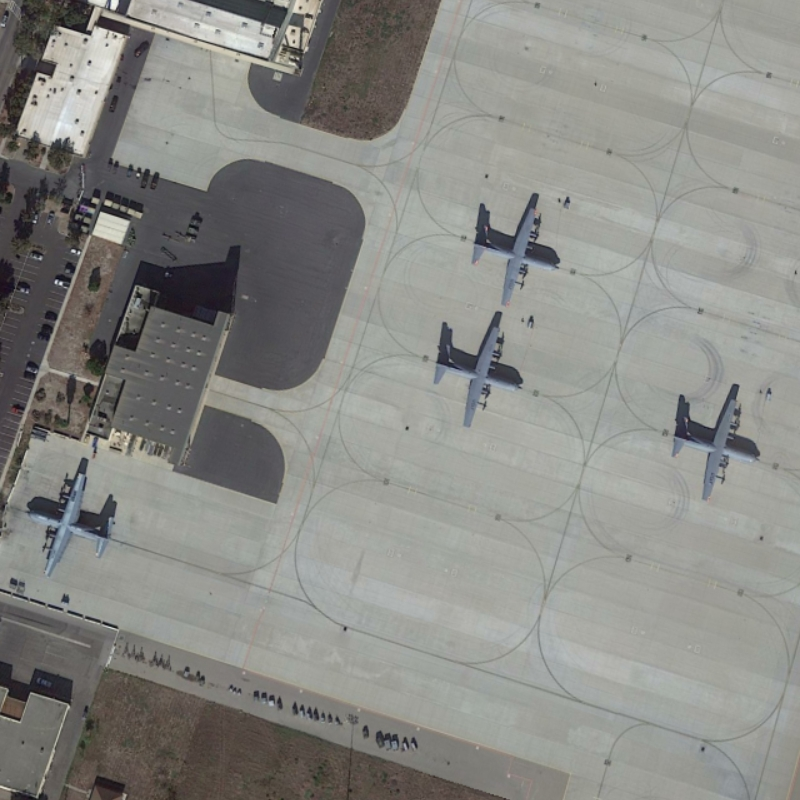A2: (665, 389, 765, 508), (21, 463, 121, 581), (429, 321, 530, 431), (467, 204, 566, 307)
